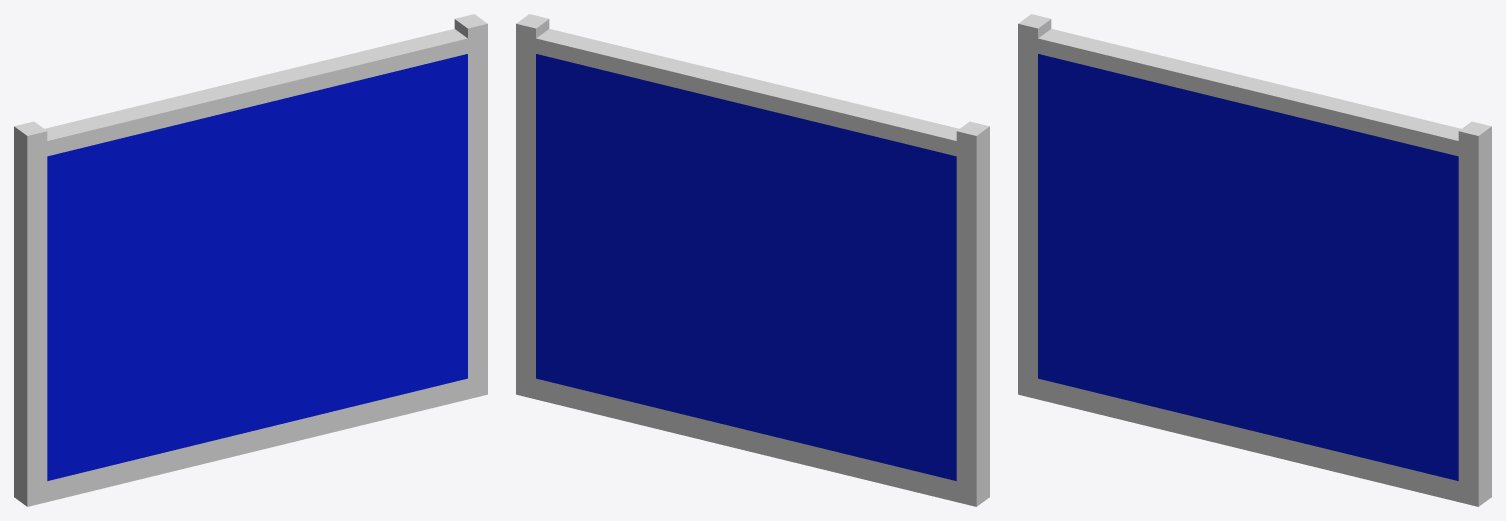
Rendered from Cubicle.fbx.
The picture shows the model from 3 angles, left to right: view 1: azimuth 30°, elevation 25°; view 2: azimuth 150°, elevation 25°; view 3: azimuth 330°, elevation 25°; orthographic projection.
Visible parts, largest first — view 1: Cube; view 2: Cube; view 3: Cube.
Part boxes in pixels (x1,y1,x2,y2): Cube: (14, 14, 487, 506); Cube: (516, 14, 989, 506); Cube: (1018, 14, 1491, 506).
Bounding box in the file's own units: 200 × 154 × 10.
